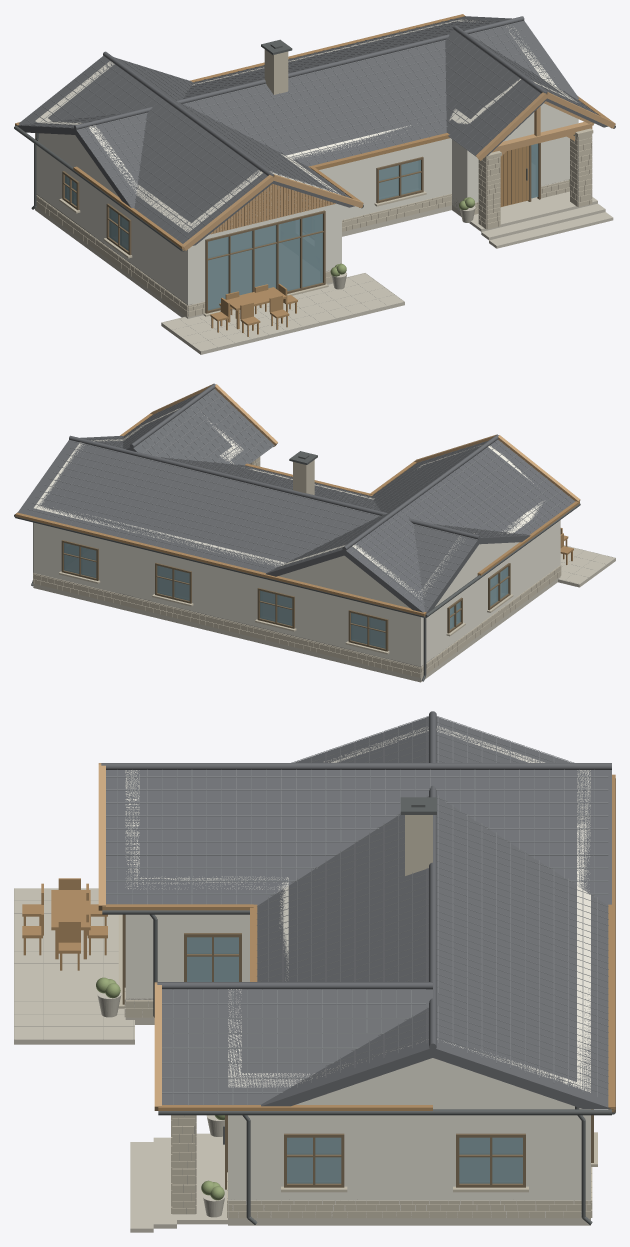
File: house.glb
3 renders of one model, top to bottom at view 1: azimuth 30°, elevation 25°; view 2: azimuth 150°, elevation 25°; view 3: azimuth 270°, elevation 25°, orthographic. The views are drawn at different scales.
Parts seen in each view (by area): view 1: Spojena sedlova strecha, Cleneni stresnich tasek, Obvodove zdivo s otvory, Terasa, Velke francouzske dvere sklo, Uzavreni_stitu_a_podkrovi, Svisle drevene oblozeni stitu, Hrebenac001, Velke francouzske dvere ram, Sokl leva strana, Vstupni stupen 2, Vstupni dvere drevo (+27 smaller); view 2: Spojena sedlova strecha, Obvodove zdivo s otvory, Cleneni stresnich tasek, Uzavreni_stitu_a_podkrovi, Sokl zadni, Zakladova deska, Okapove prkno001, Hrebenac001, Sokl leva strana, Terasa, Hrebenac, Okap zlab003 (+16 smaller); view 3: Spojena sedlova strecha, Cleneni stresnich tasek, Obvodove zdivo s otvory, Uzavreni_stitu_a_podkrovi, Terasa, Sokl prava strana, Hrebenac, Zakladova deska, Prave zadni okno sklo, Okap zlab002, Bocni okno vpravo sklo, Kamen sloupu 1right (+19 smaller).
Boxes of the visible parts, box(x1,y1,x2,y2) form: Spojena sedlova strecha: box(16, 16, 608, 245); Cleneni stresnich tasek: box(18, 17, 596, 241); Obvodove zdivo s otvory: box(35, 114, 578, 316); Terasa: box(161, 273, 404, 354); Velke francouzske dvere sklo: box(208, 213, 322, 310); Uzavreni_stitu_a_podkrovi: box(35, 19, 577, 232); Svisle drevene oblozeni stitu: box(209, 184, 335, 234); Hrebenac001: box(74, 16, 524, 129); Velke francouzske dvere ram: box(205, 210, 325, 313); Sokl leva strana: box(36, 195, 187, 316); Vstupni stupen 2: box(469, 191, 597, 231); Vstupni dvere drevo: box(500, 146, 528, 206); Spojena sedlova strecha: box(18, 388, 574, 613); Obvodove zdivo s otvory: box(33, 520, 560, 677); Cleneni stresnich tasek: box(27, 389, 572, 612); Uzavreni_stitu_a_podkrovi: box(34, 408, 543, 602); Sokl zadni: box(33, 573, 420, 677); Zakladova deska: box(33, 576, 560, 682); Okapove prkno001: box(15, 512, 426, 616); Hrebenac001: box(69, 435, 480, 539); Sokl leva strana: box(421, 565, 561, 677); Terasa: box(558, 545, 615, 587); Hrebenac: box(342, 434, 498, 550); Okap zlab003: box(15, 516, 425, 617); Spojena sedlova strecha: box(106, 716, 611, 1108); Cleneni stresnich tasek: box(106, 716, 608, 1105); Obvodove zdivo s otvory: box(125, 914, 590, 1217); Uzavreni_stitu_a_podkrovi: box(125, 726, 590, 1099); Terasa: box(14, 888, 134, 1044); Sokl prava strana: box(228, 1200, 590, 1218); Hrebenac: box(101, 763, 611, 769); Zakladova deska: box(125, 1017, 590, 1225); Prave zadni okno sklo: box(459, 1137, 522, 1183); Okap zlab002: box(158, 1109, 611, 1115); Bocni okno vpravo sklo: box(287, 1137, 341, 1183); Kamen sloupu 1right: box(172, 1115, 195, 1214).
Bounding box in the file's own units: 17.44 × 5.95 × 12.93.
